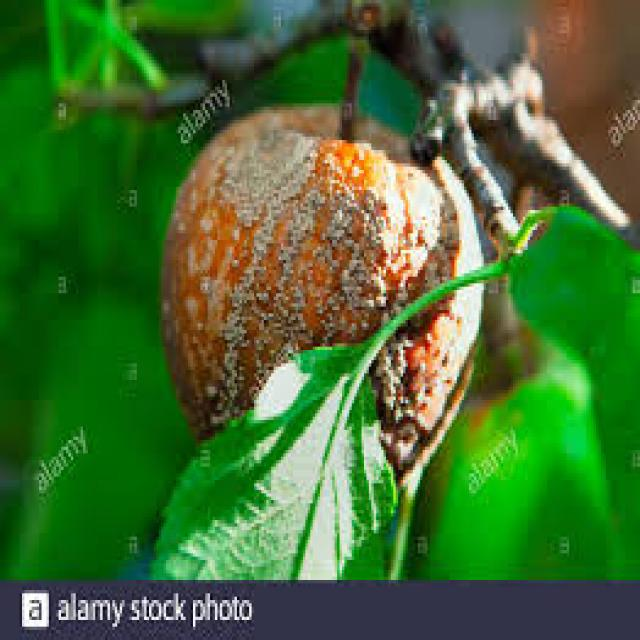organic waste: (159, 97, 481, 500), (481, 164, 567, 384)
